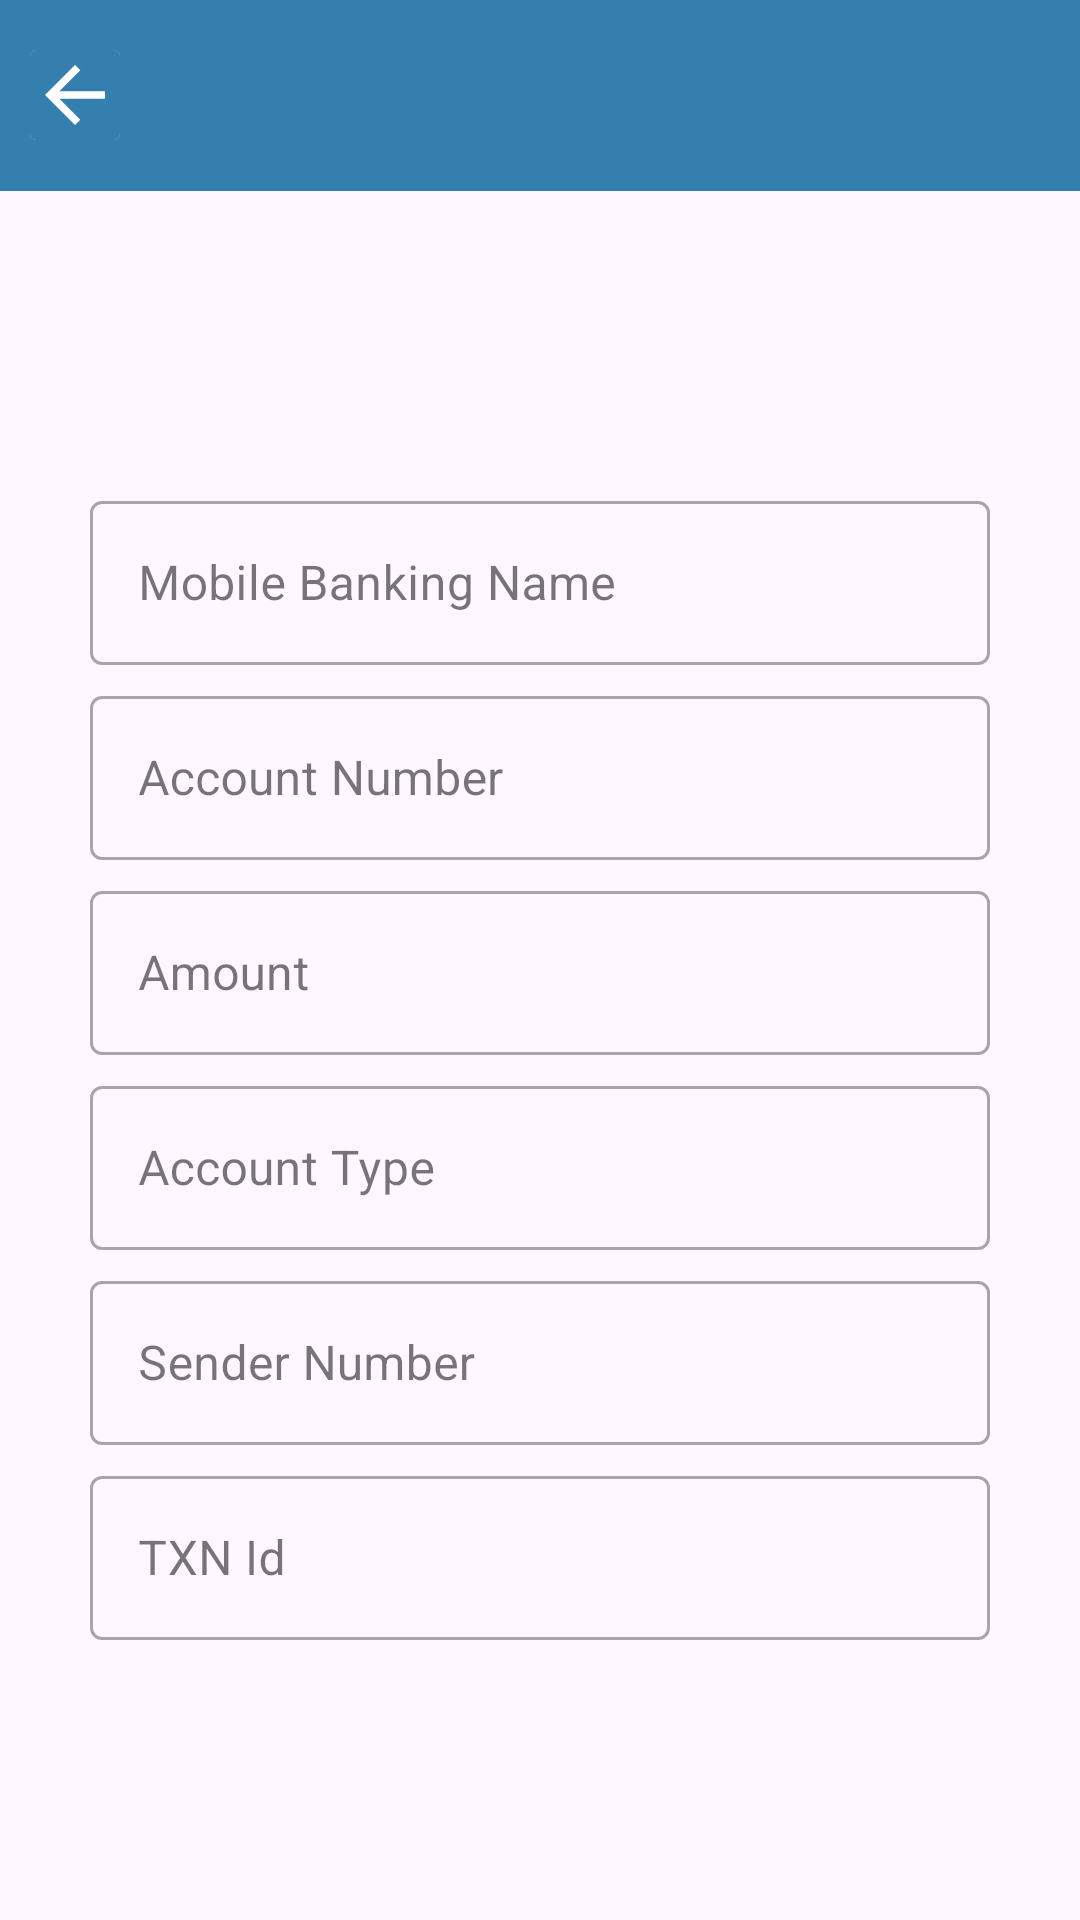

Screen size 1080*1920. Icon name, then its box in pixels as (x1, y1, x2, y2):
arrow back: (30, 50, 120, 140)
